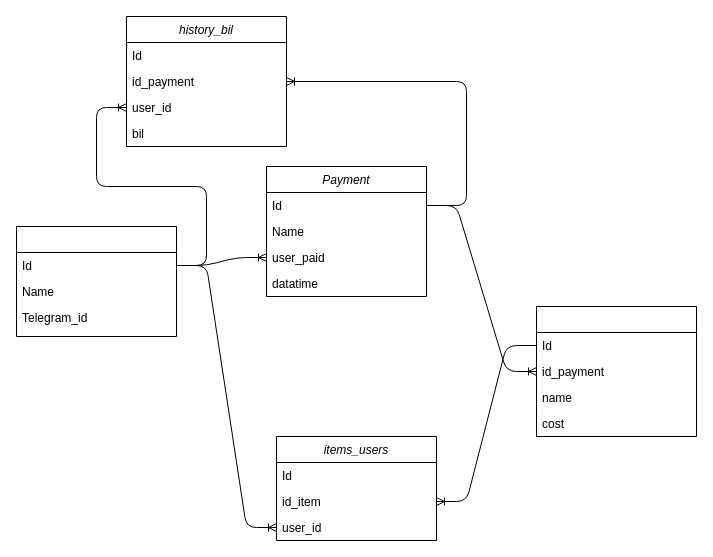
The diagram is 713 pixels wide and 557 high, and some of its shapes have lost their labels. The box of each missing label's shape, as (x1, y1, x2, y2) in pixels:
items_payment: (536, 306, 696, 436)
Users: (16, 226, 176, 336)
